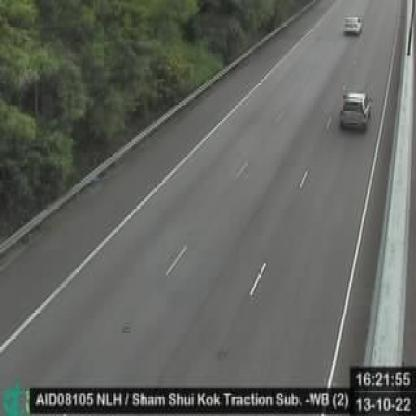Car: (339, 88, 373, 132), (342, 13, 362, 35)
